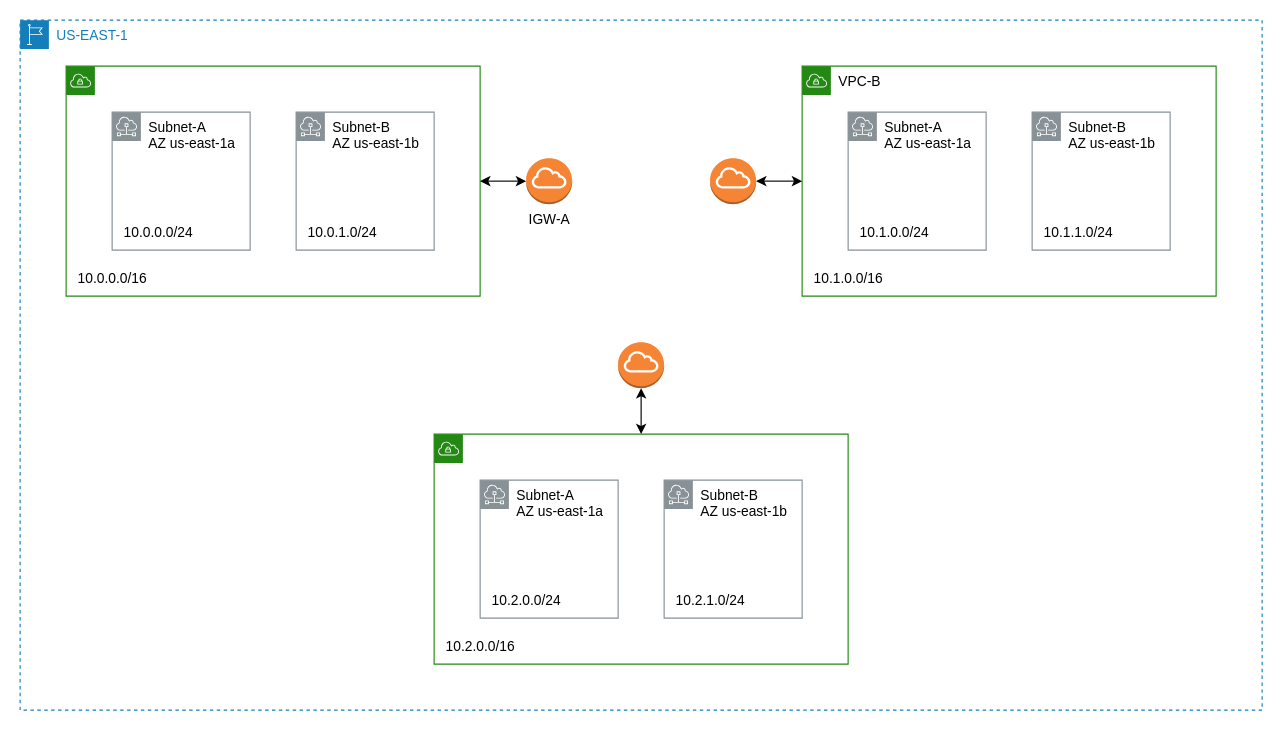
Some shapes in this 1282 by 730 pixel diagram are drawn without their labels. The shapes that lost their labels are listed below. From the top down, each one's box as (x1, y1, x2, y2) in pixels, then its label:
(65, 65, 480, 296): VPC-A
(709, 157, 756, 204): IGW-B
(617, 341, 664, 388): IGW-C
(433, 433, 848, 664): VPC-C
